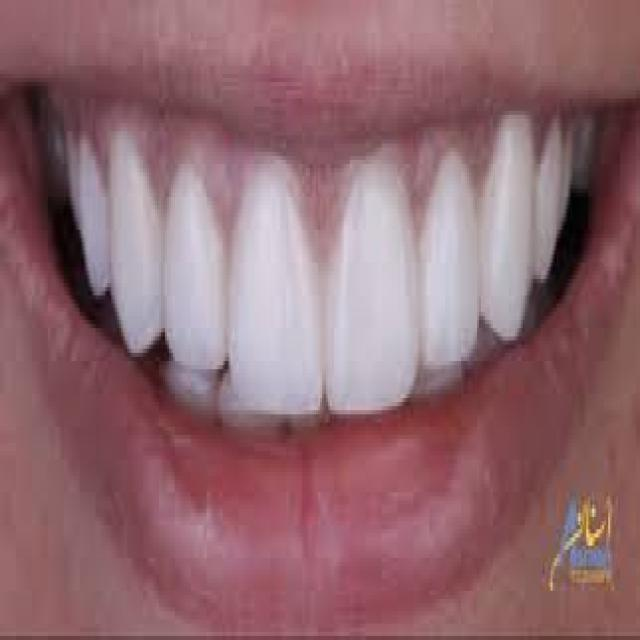tooth: (316, 156, 411, 402), (227, 209, 324, 402), (475, 115, 537, 344), (423, 152, 483, 357), (157, 201, 233, 357), (105, 201, 155, 295), (540, 119, 570, 263), (72, 180, 105, 266)
